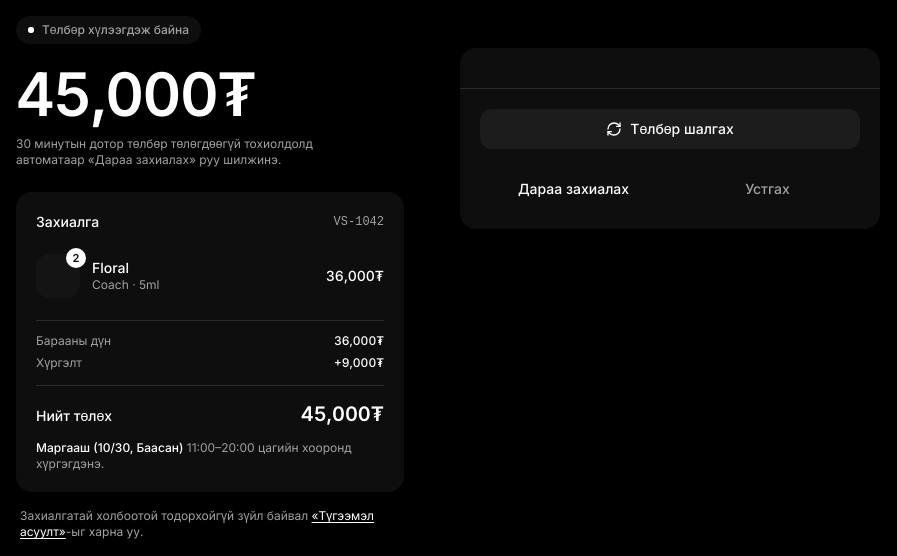
Test: PaymentPanel — leaving an unpaid order (0124) › switches to the paid state when the server finds the money first
Click the button "Дараа захиалах" at (574, 189), box x1=480 y1=169 x2=667 y2=209
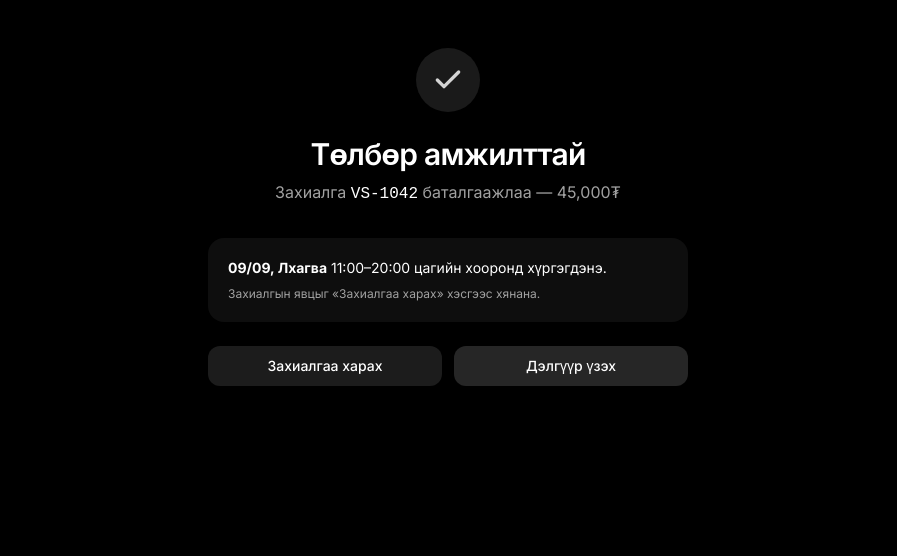
Now the heading "Төлбөр амжилттай" is shown, box x1=310 y1=136 x2=586 y2=172
